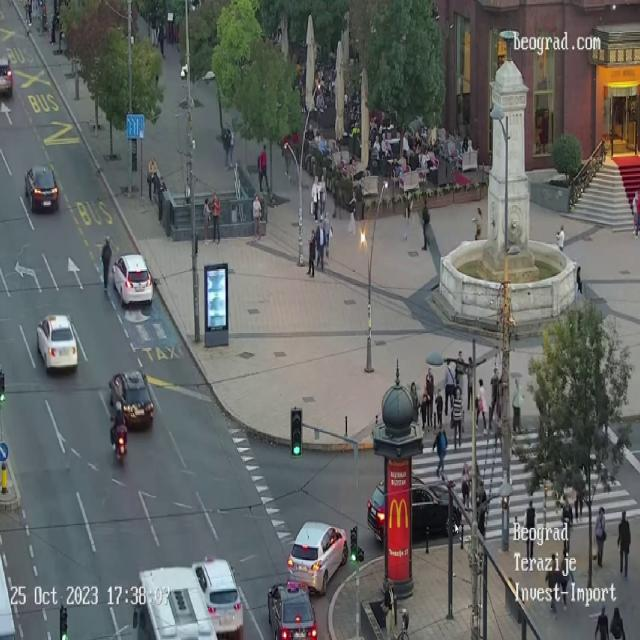bus: (132, 569, 213, 640)
car: (369, 480, 460, 540), (286, 520, 348, 596), (194, 557, 244, 633), (267, 581, 318, 640), (109, 369, 154, 430), (37, 313, 78, 373), (112, 253, 153, 309), (24, 165, 59, 213), (0, 57, 11, 101)
